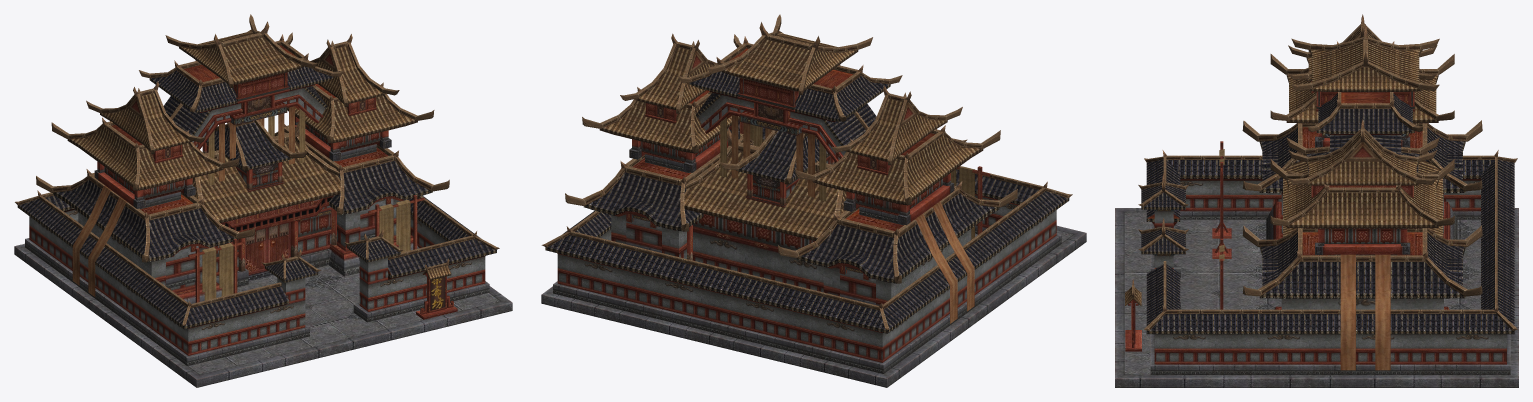
The picture shows the model from 3 angles, left to right: view 1: azimuth 30°, elevation 25°; view 2: azimuth 150°, elevation 25°; view 3: azimuth 270°, elevation 25°; orthographic projection. The views are drawn at different scales.
Parts seen in each view (by area): view 1: g_56; view 2: g_56; view 3: g_56.
Boxes of the visible parts, <box> form: g_56: <box>14,14,512,387</box>; g_56: <box>541,14,1086,387</box>; g_56: <box>1115,14,1518,387</box>.
Bounding box in the file's own units: 20.07 × 14.48 × 20.
Materials: 2 (2 with a texture image).
